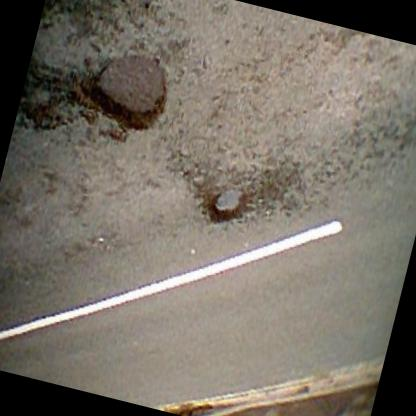pothole: (83, 40, 178, 142), (204, 179, 252, 235)
